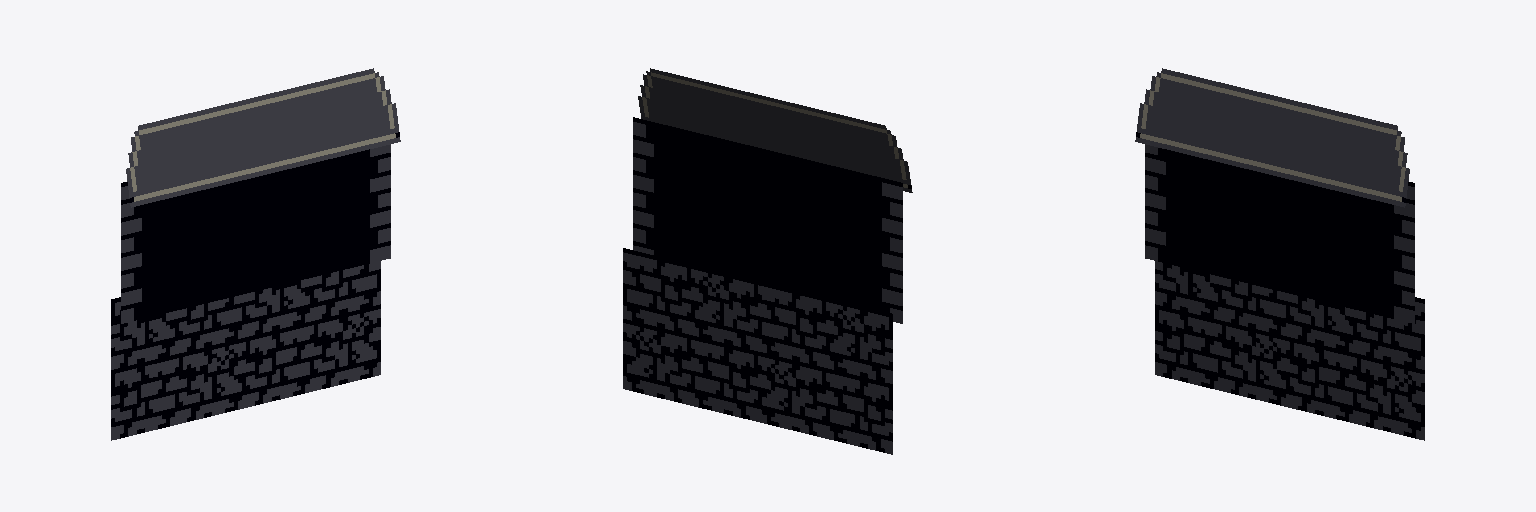
3 renders of one model, left to right at view 1: azimuth 30°, elevation 25°; view 2: azimuth 150°, elevation 25°; view 3: azimuth 330°, elevation 25°, orthographic.
Parts seen in each view (by area): view 1: Default; view 2: Default; view 3: Default.
Boxes of the visible parts, box(x1,y1,x2,y2) form: Default: box(111, 68, 400, 440); Default: box(623, 68, 912, 454); Default: box(1135, 68, 1424, 440).
Size of the model in its own units: 4 by 4.5 by 0.5.
Materials: 1 (1 with a texture image).